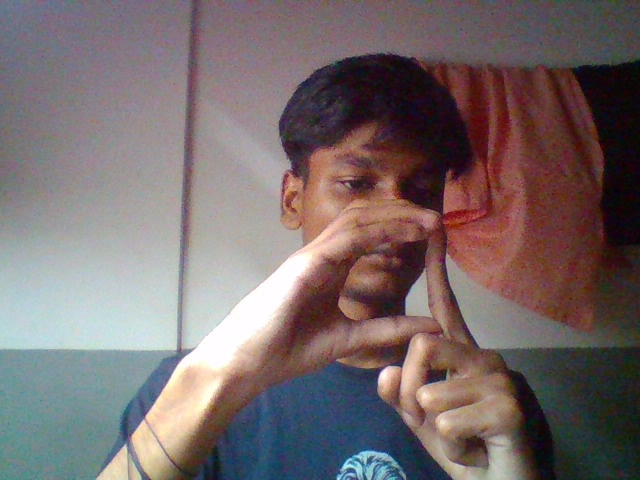D: (127, 182, 634, 480)
